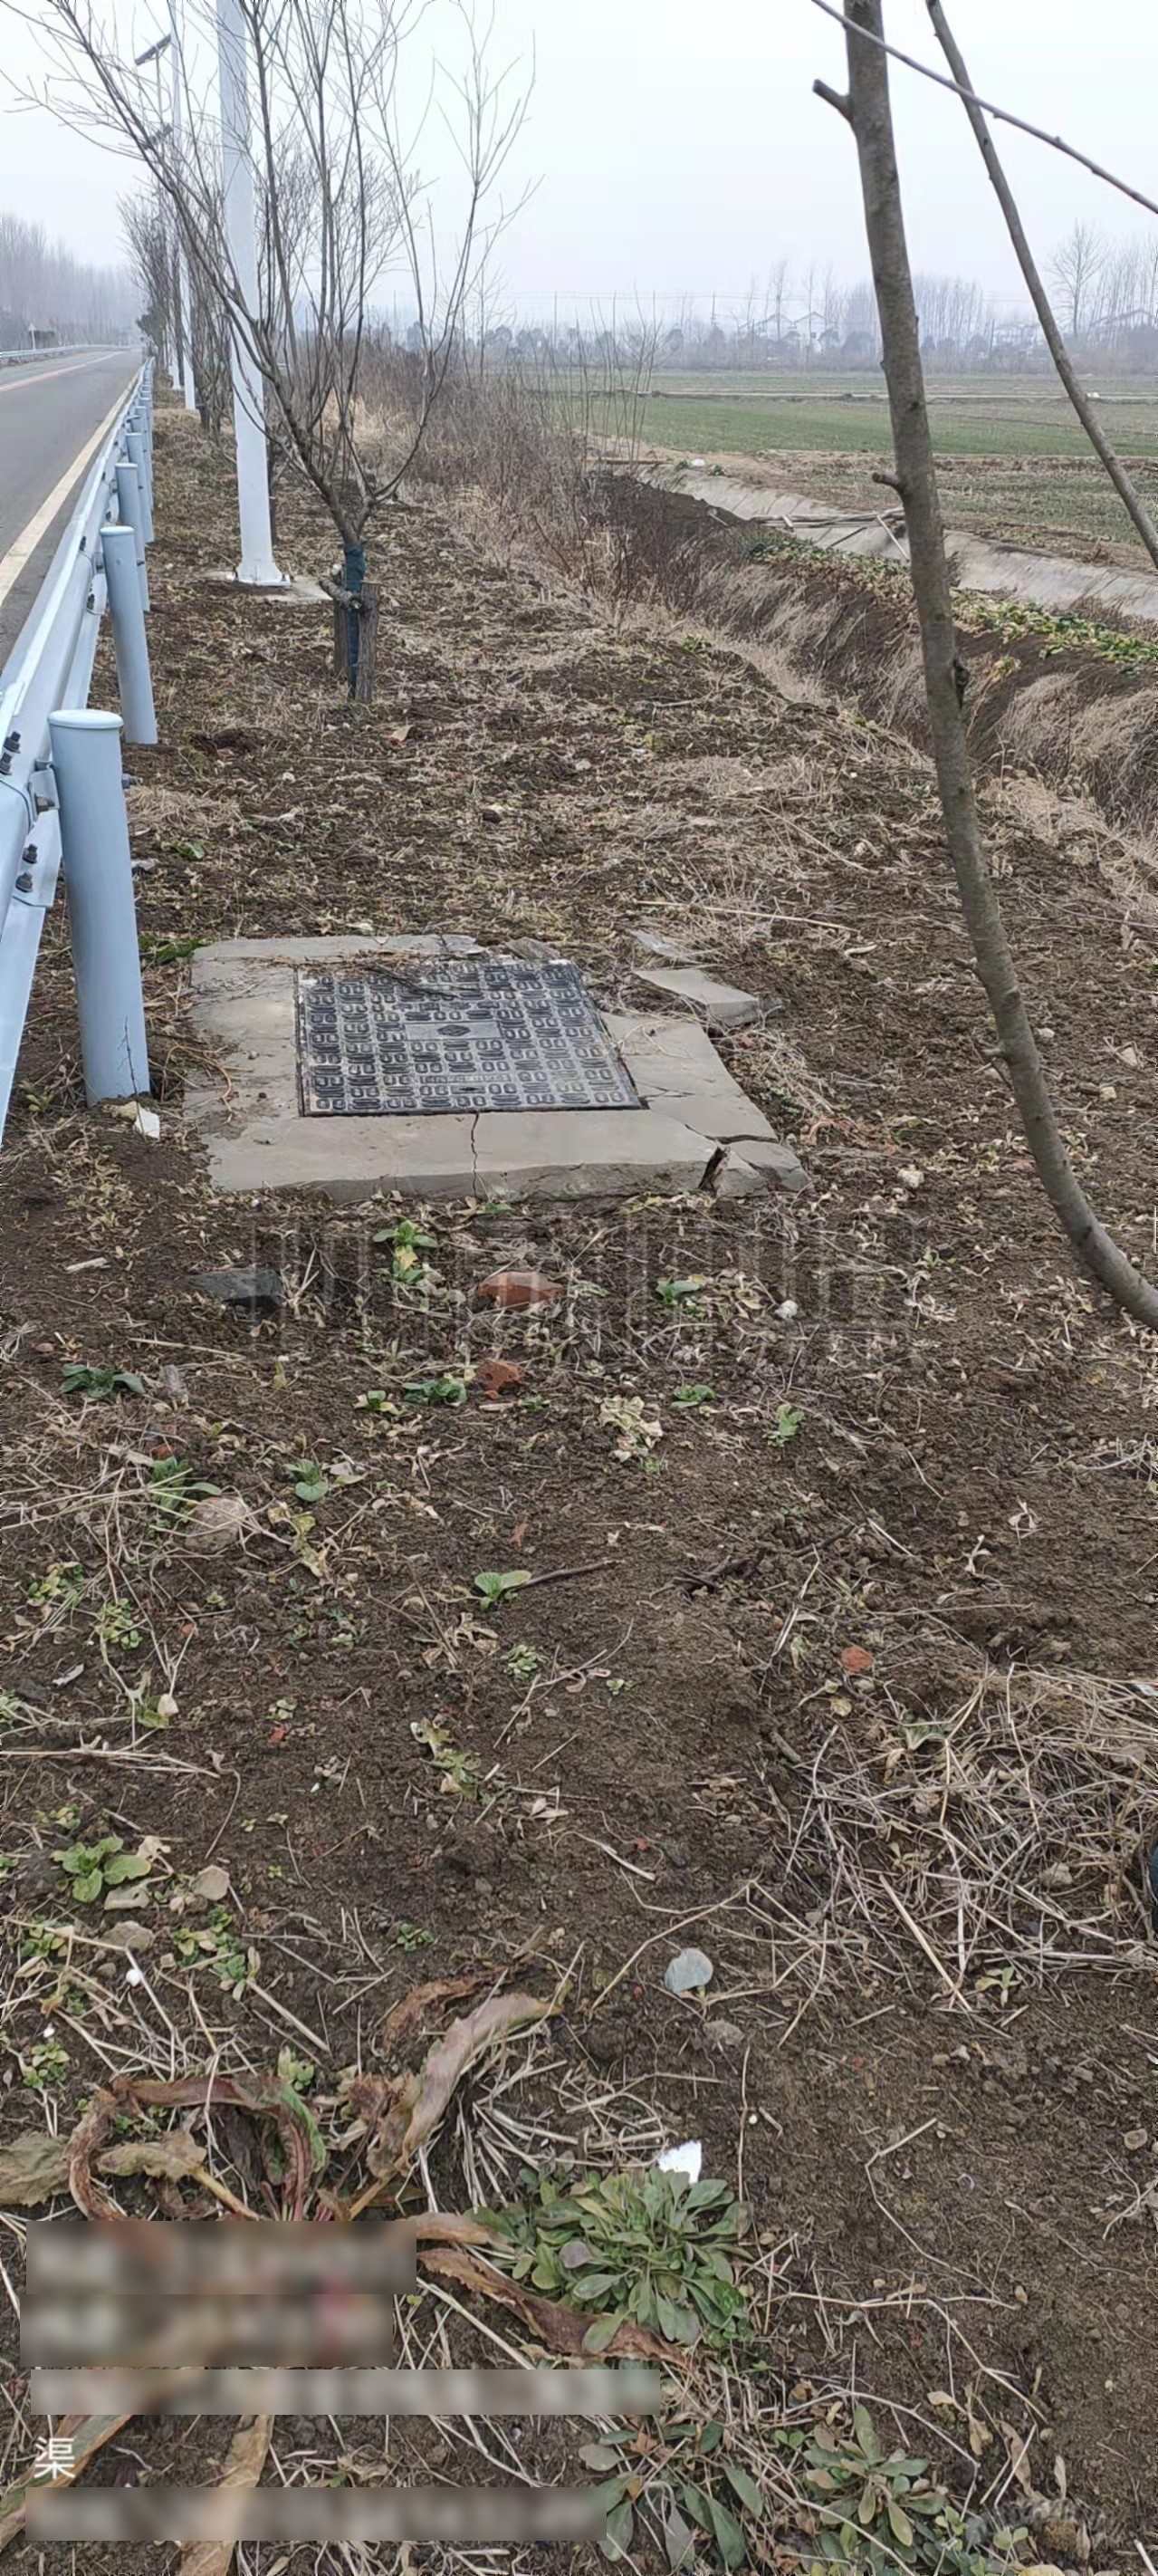good: (268, 917, 665, 1124)
